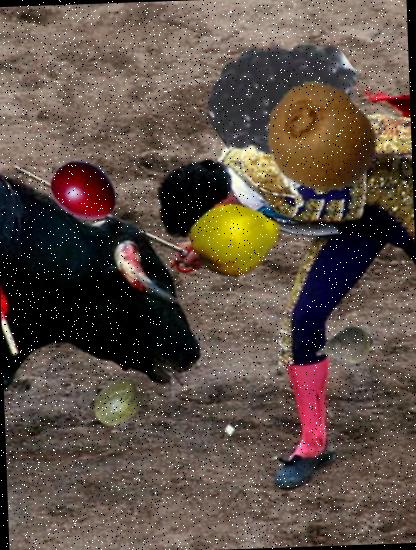Beetroot: (314, 314, 380, 381)
Kiwi: (263, 79, 382, 197)
Melon: (92, 375, 150, 432)
Mulberry: (206, 21, 362, 176)
Passion: (264, 56, 336, 128)
Quince: (191, 192, 284, 286)
Tamarillo: (43, 151, 122, 229)
